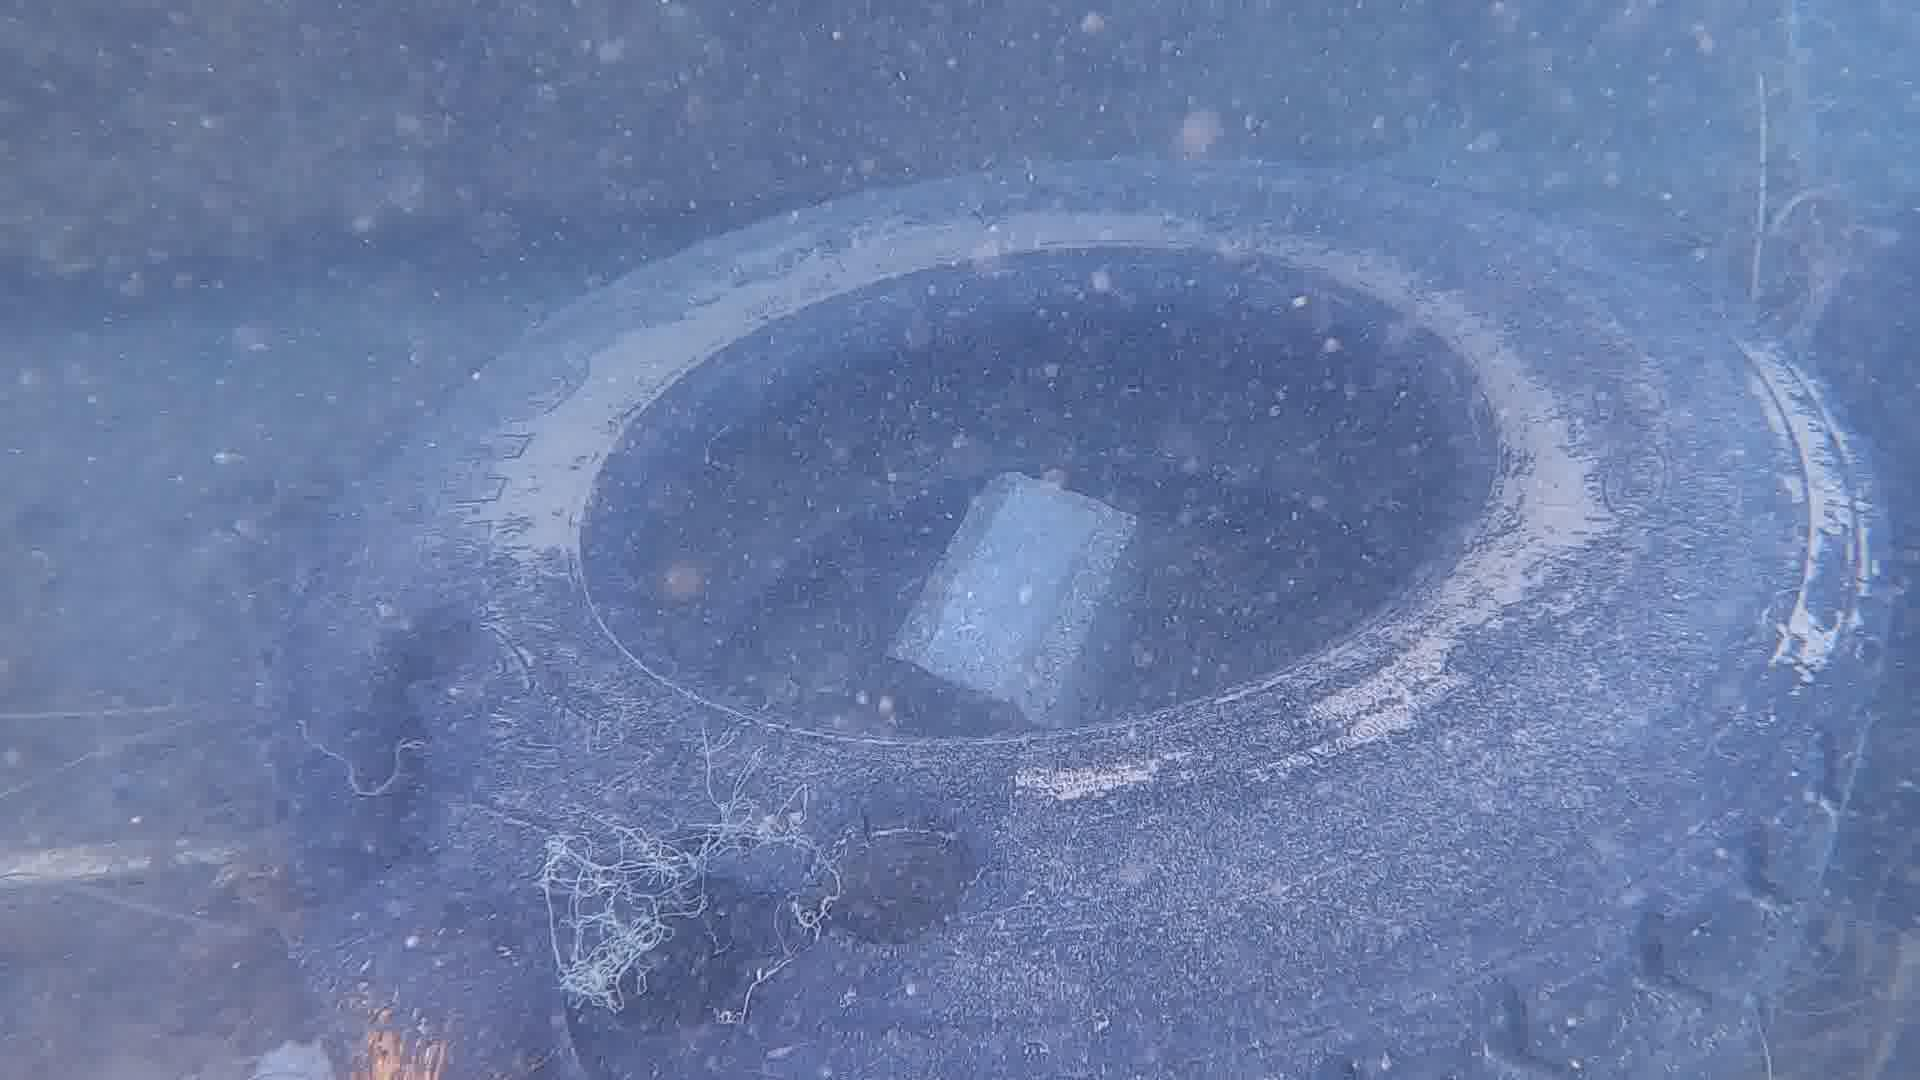tire: (280, 160, 1902, 1080)
